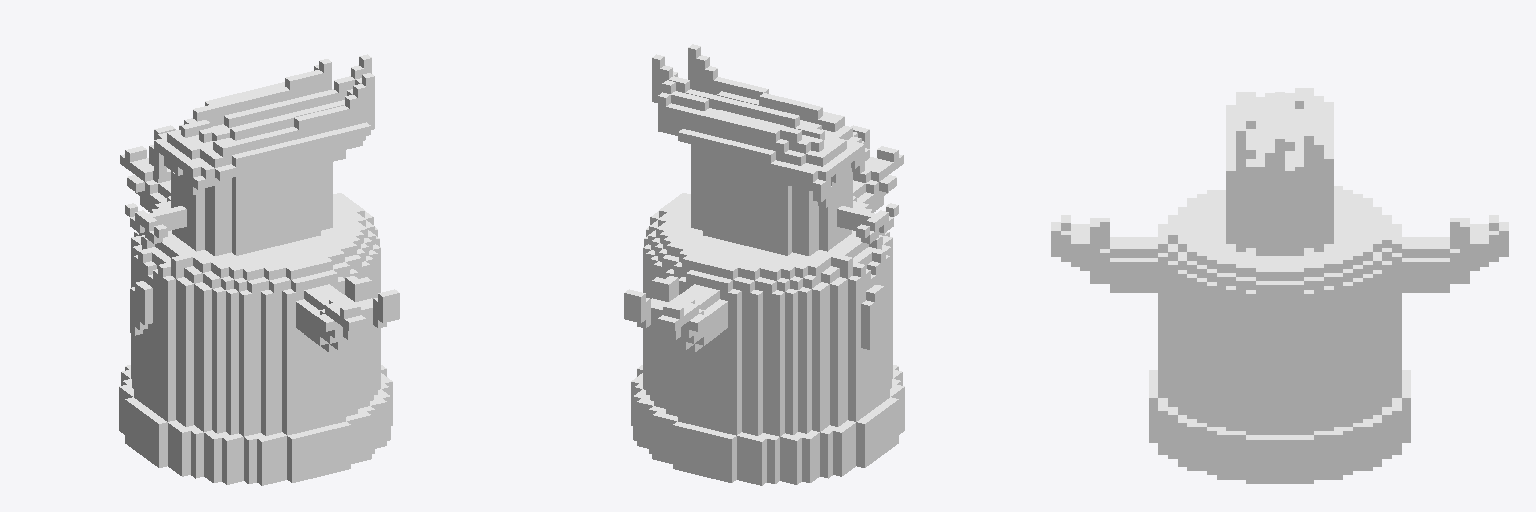
Rendered from molescout.obj.
3 views of the same model, side by side, from view 1: azimuth 30°, elevation 25°; view 2: azimuth 150°, elevation 25°; view 3: azimuth 270°, elevation 25° (orthographic).
Visible parts, largest first — view 1: object 1; view 2: object 1; view 3: object 1.
Boxes of the visible parts, <box> form: object 1: <box>119,54,399,485</box>; object 1: <box>624,44,904,485</box>; object 1: <box>1051,88,1508,483</box>.
Size of the model in its own units: 2.7 by 3.9 by 4.7.